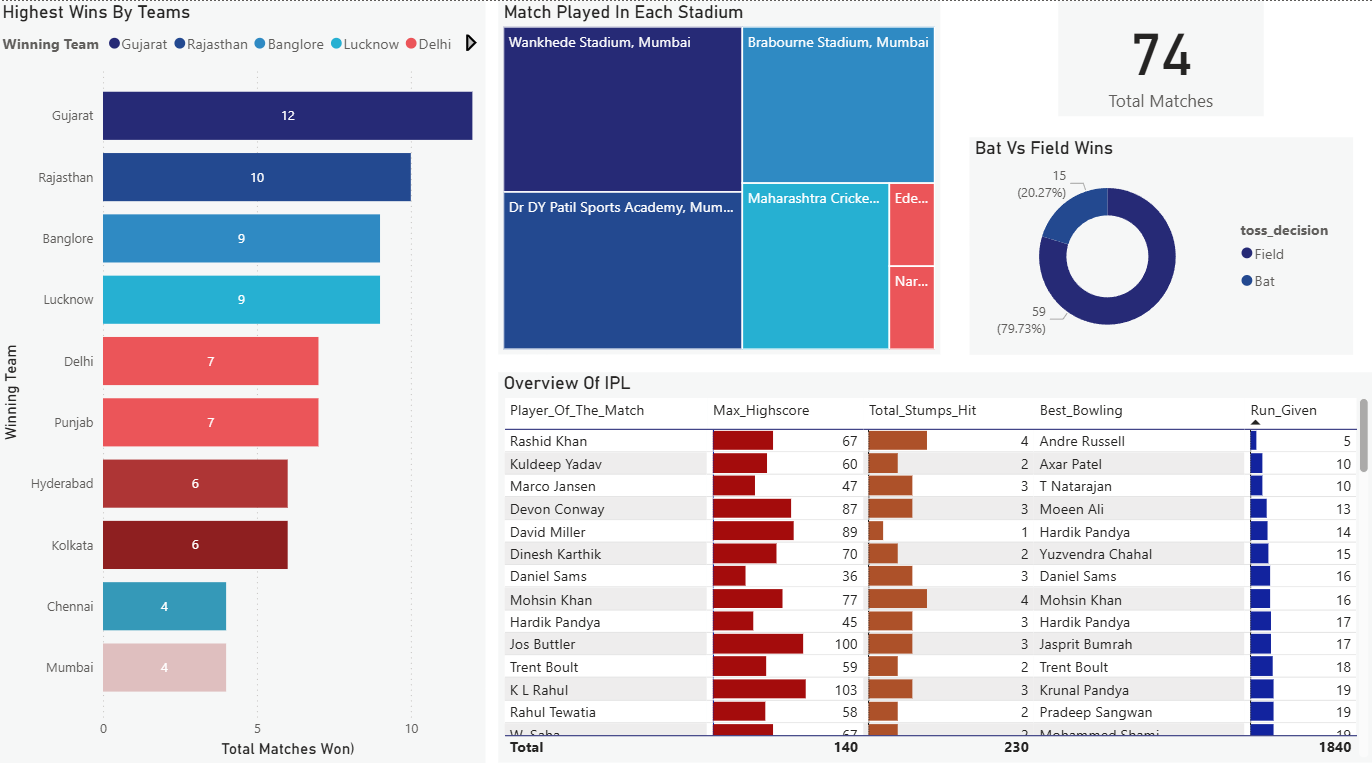

What the dashboard file says about the page in this screenshot:
{"tool":"powerbi","page":{"name":"Page 1","canvas":[1280,720],"ordinal":0},"visuals":[{"type":"barChart","title":"Highest Wins By Teams","fields":{"Category":["IPL_Data_for_PowerBI.match_winner"],"Series":["IPL_Data_for_PowerBI.match_winner"],"Y":["CountNonNull(IPL_Data_for_PowerBI.match_id)"]},"box":[0,0,454.4,708.8],"z":0},{"type":"treemap","title":"Match Played In Each Stadium","fields":{"Group":["IPL_Data_for_PowerBI.venue_short"],"Values":["CountNonNull(IPL_Data_for_PowerBI.match_id)"]},"box":[466.7,0,411.1,329.2],"z":1000},{"type":"donutChart","title":"Bat Vs Field Wins","fields":{"Category":["IPL_Data_for_PowerBI.toss_decision"],"Y":["CountNonNull(IPL_Data_for_PowerBI.match_id)"]},"box":[904.2,126.4,356.9,202.8],"z":2000},{"type":"tableEx","title":"Overview Of IPL","fields":{"Values":["IPL_Data_for_PowerBI.player_of_the_match","Max(IPL_Data_for_PowerBI.highscore)","Sum(IPL_Data_for_PowerBI.highest_wickets)","IPL_Data_for_PowerBI.best_bowling","Sum(IPL_Data_for_PowerBI.run_given)"]},"box":[466.2,345.6,814.7,363.2],"z":3000},{"type":"card","title":"Overview OF IPL","fields":{"Values":["IPL_Data_for_PowerBI.Total Matches (Ignoring Filters)"]},"box":[987.1,0,191.4,107.1],"z":5000}]}

Visuals, with their boxes in screenshot pixels (x1, y1, x2, y2), scaled from the page's 1280x720 canvas onto the 1372x773 screenshot:
"Highest Wins By Teams" barChart: box(0, 0, 487, 761)
"Match Played In Each Stadium" treemap: box(500, 0, 941, 353)
"Bat Vs Field Wins" donutChart: box(969, 136, 1352, 353)
"Overview Of IPL" tableEx: box(500, 371, 1371, 761)
"Overview OF IPL" card: box(1058, 0, 1263, 115)
